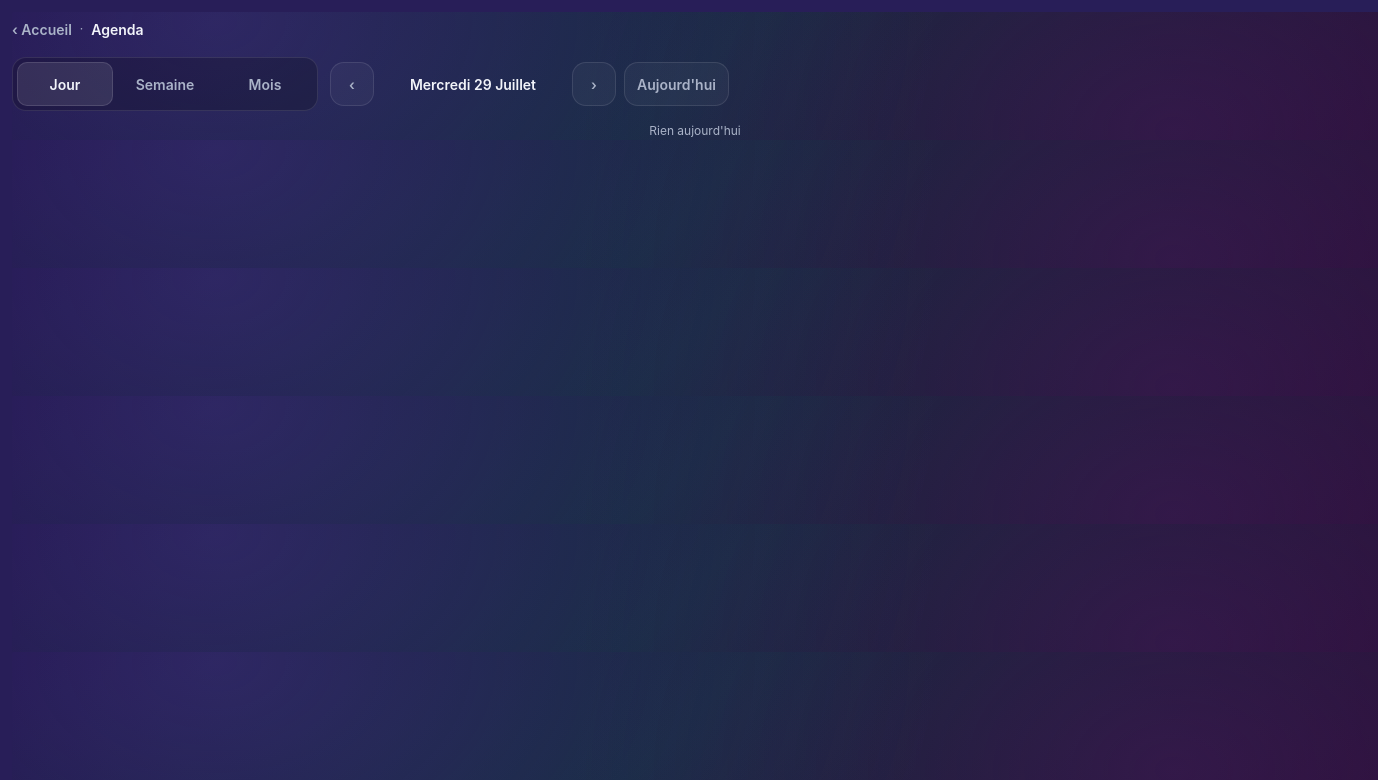
Test: AgendaDetail (Story 10.2) › la flèche suivante demande la plage SUIVANTE
Click the button named "période suivante" at (594, 84), box top-left (572, 62), bottom-right (616, 106)
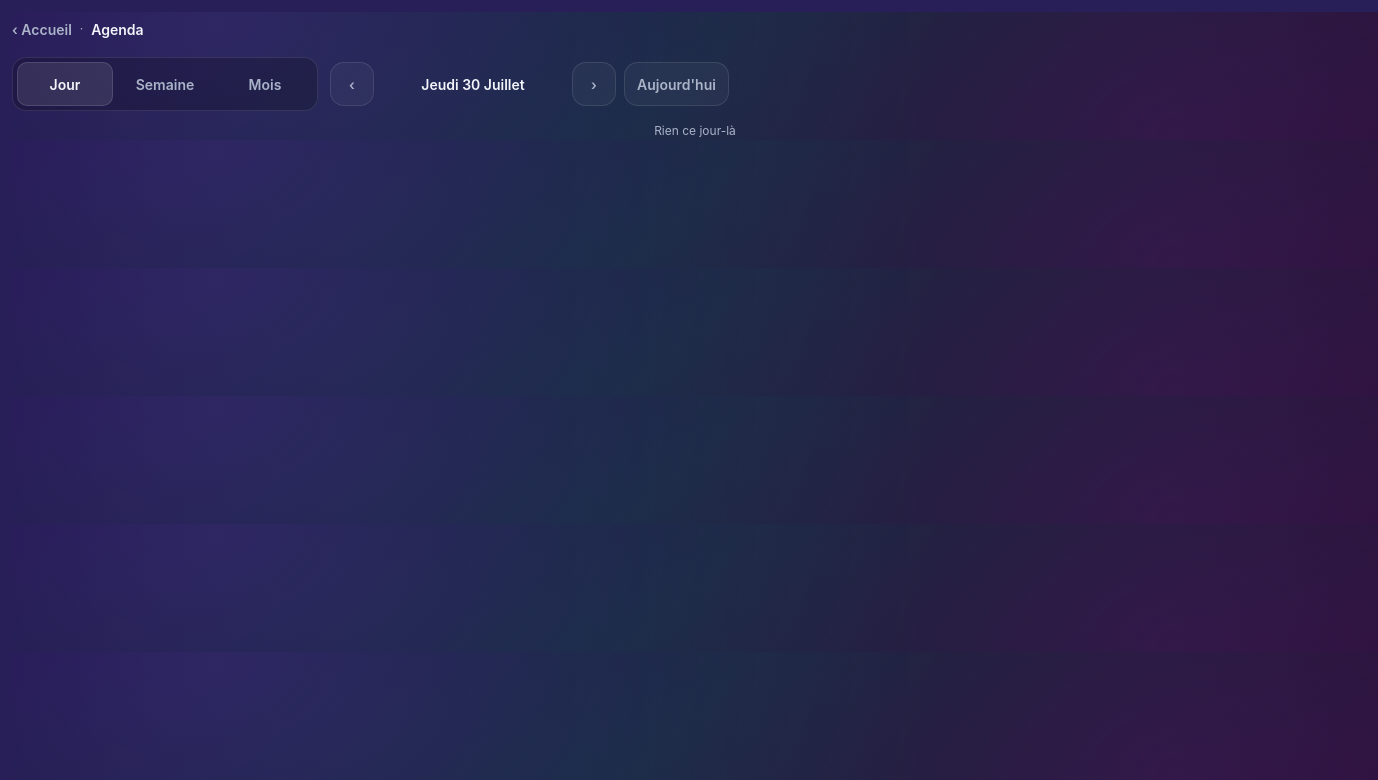
Result: the text "jeudi 30 juillet" is shown at top-left (421, 76), bottom-right (525, 92)
